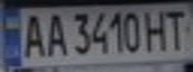0: (121, 8, 145, 53)
1: (109, 8, 127, 54)
3: (66, 9, 93, 56)
4: (90, 8, 109, 55)
A: (18, 10, 48, 58), (42, 9, 69, 57)
H: (142, 7, 172, 53)
T: (163, 6, 190, 52)
